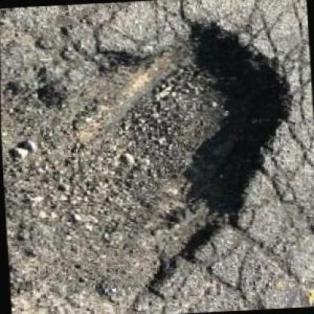Hueco: (0, 13, 306, 313)
